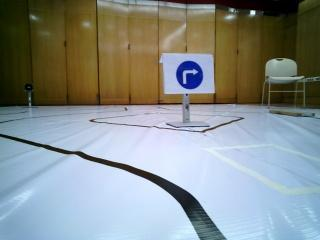right: (166, 56, 213, 93)
